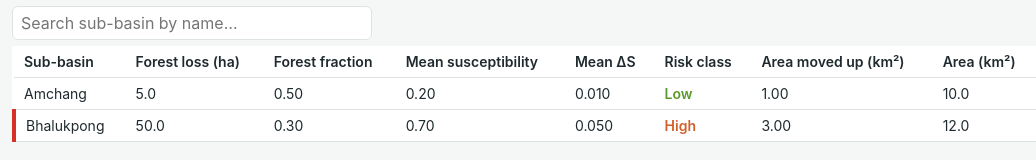
Test case: SubbasinTable (FR-V2, NFR-6) › sorts by forest loss (largest first) when the header is clicked
Step 1. Click the button "Forest loss (ha)" → (188, 62), box [136,53,240,70]
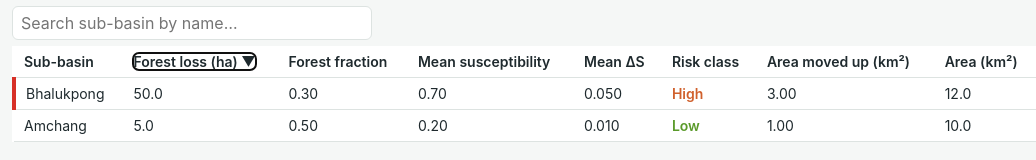
Check: the elements with test id "name-cell" read "Bhalukpong", "Amchang", in this order, box [26,85,104,102]; [24,117,87,134]
